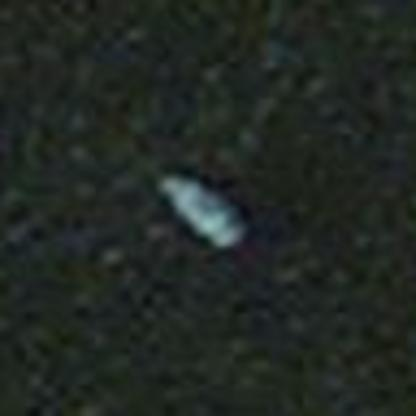ship: (145, 163, 257, 255)
